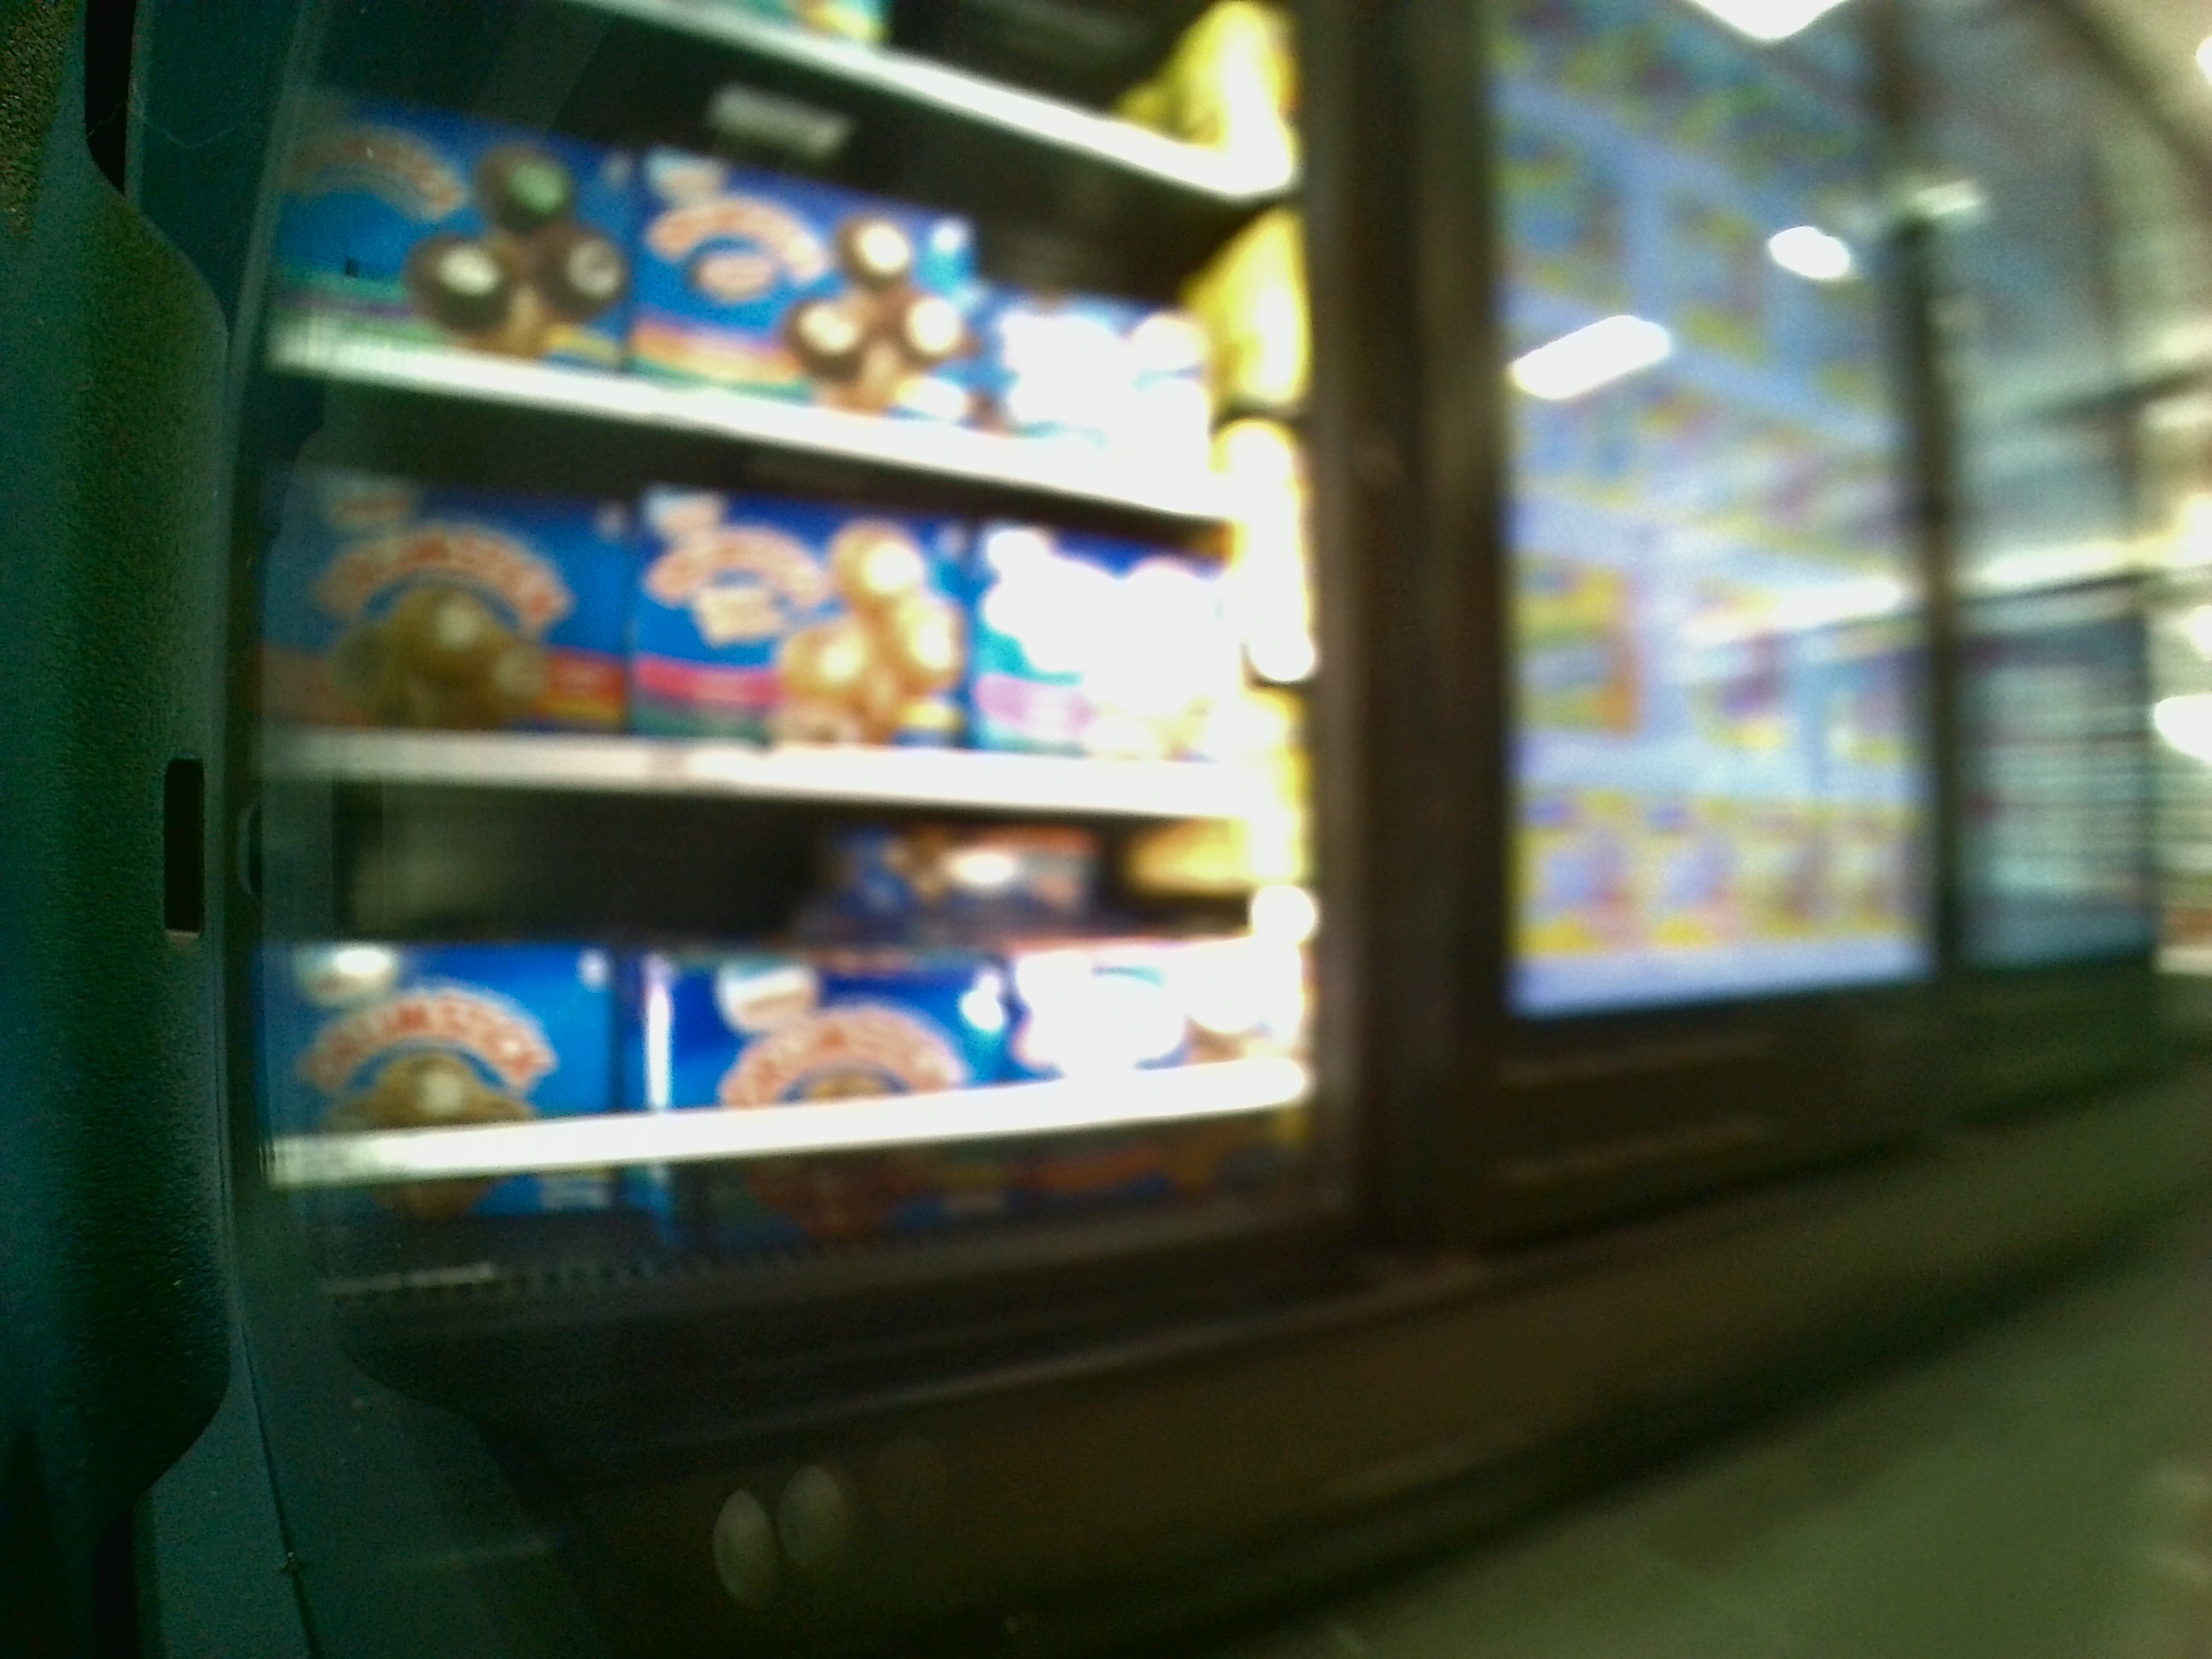shelf: (272, 821, 1305, 1213), (253, 469, 1310, 809)
